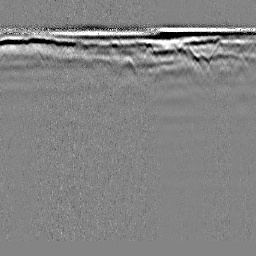cavity: (116, 54, 137, 75)
